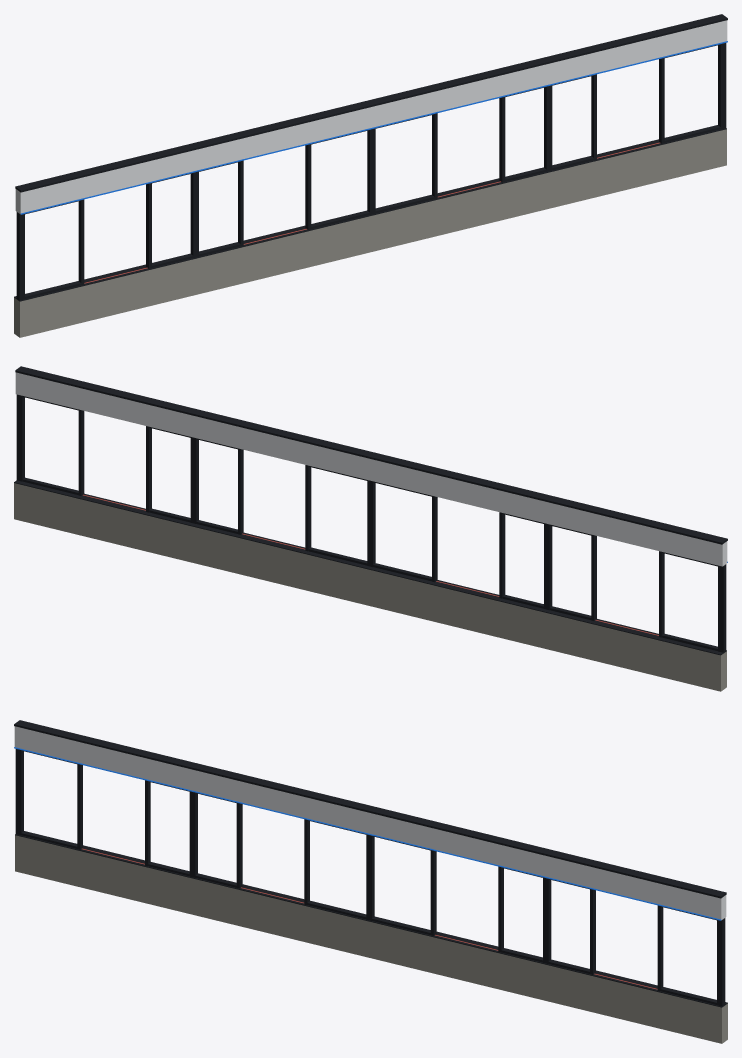
The model's file is PlatformEdgeHousing.glb.
3 renders of one model, top to bottom at view 1: azimuth 30°, elevation 25°; view 2: azimuth 150°, elevation 25°; view 3: azimuth 330°, elevation 25°, orthographic.
Visible parts, largest first — view 1: psd-concrete-foundation, psd-info-housing, platform-edge-housing-black-001, psd-threshold, psd-fixed-post (×4), psd-section-pillar (×3), psd-line-colour-band, platform-edge-housing-black-007; view 2: psd-concrete-foundation, psd-info-housing, platform-edge-housing-black-001, psd-threshold, psd-fixed-post (×4), psd-section-pillar (×3), platform-edge-housing-black-007; view 3: psd-concrete-foundation, psd-info-housing, platform-edge-housing-black-001, psd-threshold, psd-fixed-post (×4), psd-section-pillar (×3), psd-line-colour-band, platform-edge-housing-black-007.
Boxes of the visible parts, x1=… form: psd-concrete-foundation: x1=14, y1=129, x2=726, y2=337; psd-info-housing: x1=15, y1=20, x2=727, y2=214; platform-edge-housing-black-001: x1=15, y1=14, x2=727, y2=192; psd-threshold: x1=14, y1=125, x2=726, y2=301; psd-fixed-post (×4): x1=16, y1=97, x2=505, y2=300; psd-section-pillar (×3): x1=190, y1=85, x2=552, y2=257; psd-line-colour-band: x1=20, y1=41, x2=727, y2=214; platform-edge-housing-black-007: x1=311, y1=195, x2=434, y2=228; psd-concrete-foundation: x1=14, y1=483, x2=726, y2=691; psd-info-housing: x1=15, y1=372, x2=727, y2=566; platform-edge-housing-black-001: x1=15, y1=366, x2=727, y2=544; psd-threshold: x1=14, y1=480, x2=726, y2=655; psd-fixed-post (×4): x1=78, y1=409, x2=726, y2=652; psd-section-pillar (×3): x1=190, y1=437, x2=552, y2=610; platform-edge-housing-black-007: x1=308, y1=547, x2=431, y2=581; psd-concrete-foundation: x1=15, y1=835, x2=727, y2=1043; psd-info-housing: x1=14, y1=726, x2=726, y2=920; platform-edge-housing-black-001: x1=14, y1=720, x2=726, y2=898; psd-threshold: x1=15, y1=831, x2=727, y2=1007; psd-fixed-post (×4): x1=236, y1=803, x2=725, y2=1006; psd-section-pillar (×3): x1=189, y1=791, x2=551, y2=963; psd-line-colour-band: x1=14, y1=747, x2=721, y2=920; platform-edge-housing-black-007: x1=307, y1=901, x2=430, y2=934.
Size of the model in its own units: 20 by 4 by 0.345.
5 materials, 1 textured.
